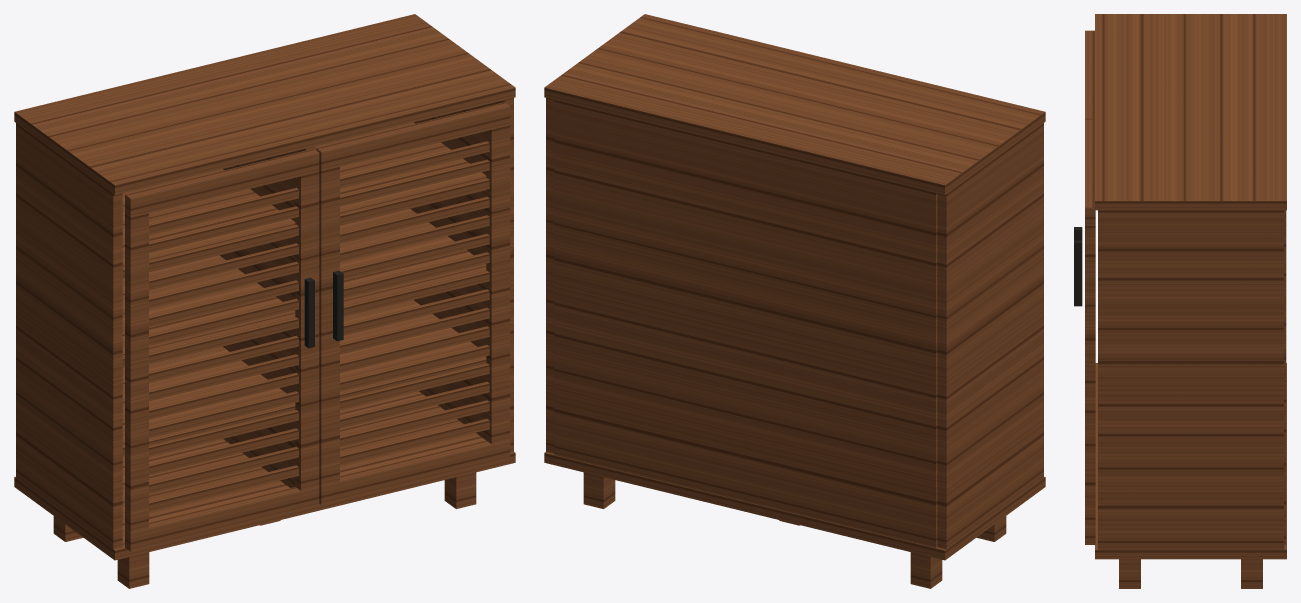
3 renders of one model, left to right at view 1: azimuth 30°, elevation 25°; view 2: azimuth 150°, elevation 25°; view 3: azimuth 270°, elevation 25°, orthographic. The views are drawn at different scales.
Visible parts, largest first — view 1: Cabinet_Root; view 2: Cabinet_Root; view 3: Cabinet_Root.
Boxes of the visible parts, x1,y1,x2,y2 form: Cabinet_Root: [14, 14, 515, 588]; Cabinet_Root: [544, 14, 1045, 588]; Cabinet_Root: [1074, 14, 1286, 588].
Size of the model in its own units: 0.76 by 0.76 by 0.366.
Materials: 2 (2 with a texture image).
